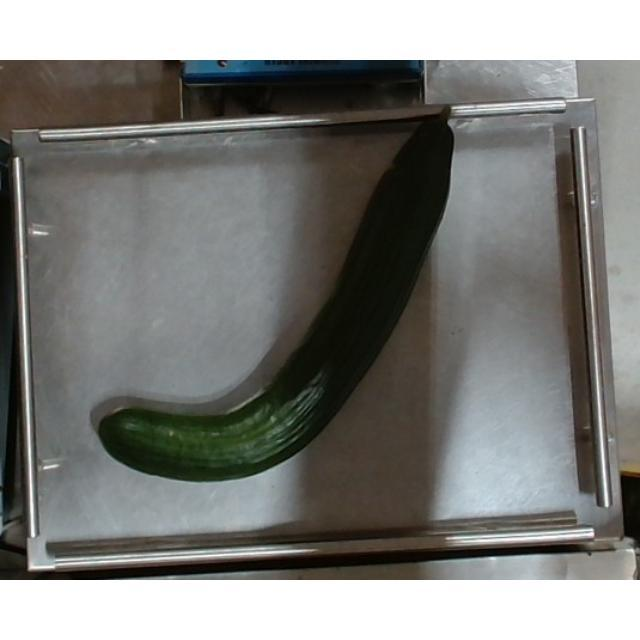cucumber: (94, 101, 460, 483)
